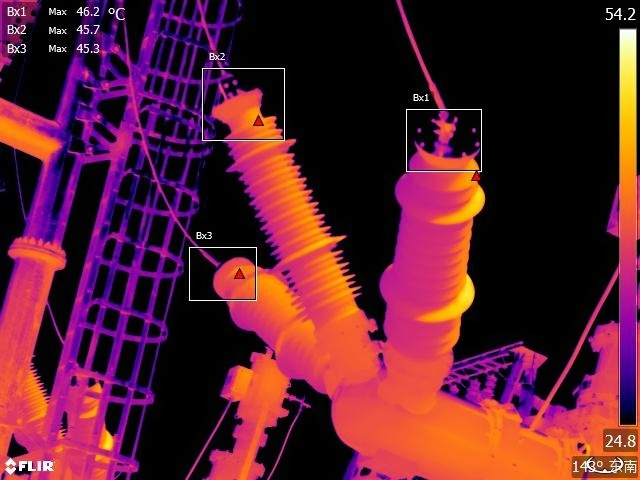tube: (202, 75, 380, 348), (375, 112, 493, 364), (207, 244, 328, 394), (21, 354, 51, 433)
